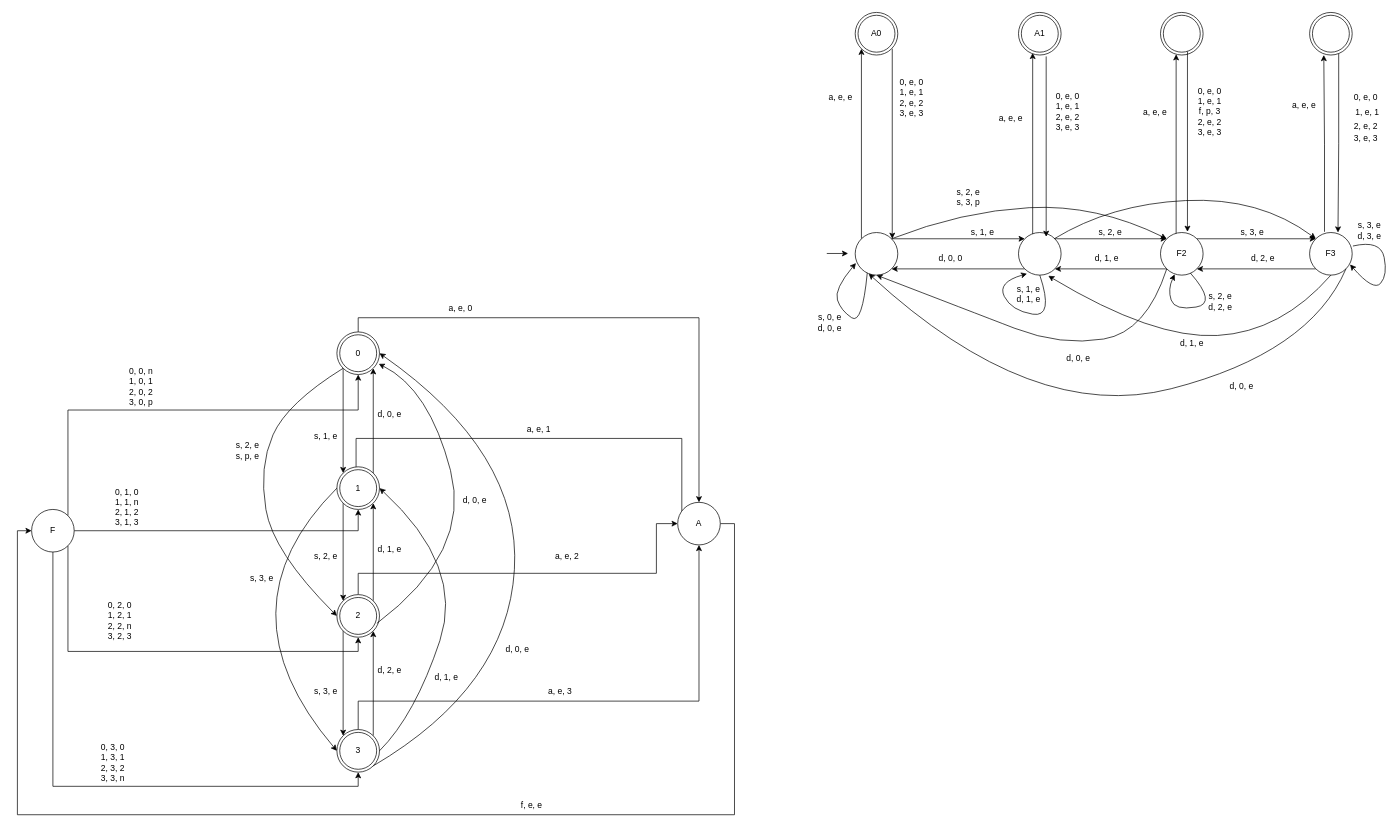
Image size: 1398x833. Some labels were removed from this diagram. Each missing label, with the box of its shape:
A2: (1160, 12, 1203, 55)
A3: (1309, 12, 1352, 55)
F0: (854, 232, 898, 275)
F1: (1018, 232, 1061, 275)
